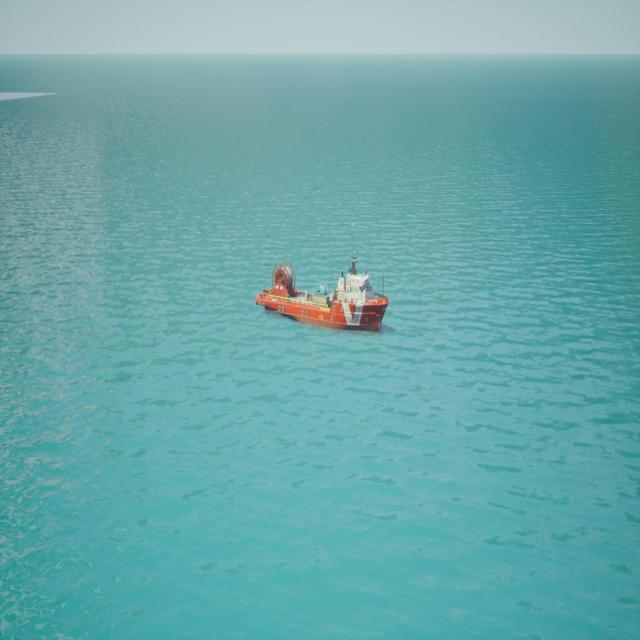tug boat: (256, 251, 390, 336)
